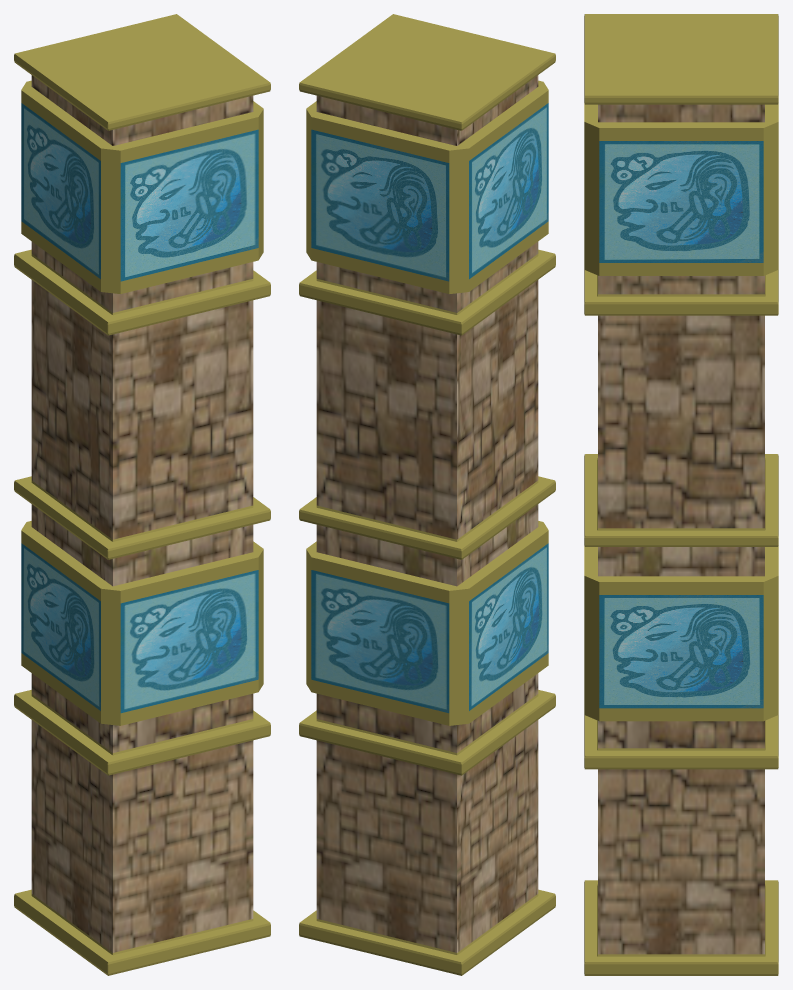
The model's file is AztecPillar.fbx.
3 views of the same model, side by side, from view 1: azimuth 30°, elevation 25°; view 2: azimuth 150°, elevation 25°; view 3: azimuth 270°, elevation 25° (orthographic). The views are drawn at different scales.
Visible parts, largest first — view 1: Pilar; view 2: Pilar; view 3: Pilar.
Boxes of the visible parts, box(x1,y1,x2,y2) form: Pilar: box(14, 14, 270, 975); Pilar: box(299, 14, 555, 975); Pilar: box(584, 14, 778, 975).
Bounding box in the file's own units: 600 × 3000 × 600.
